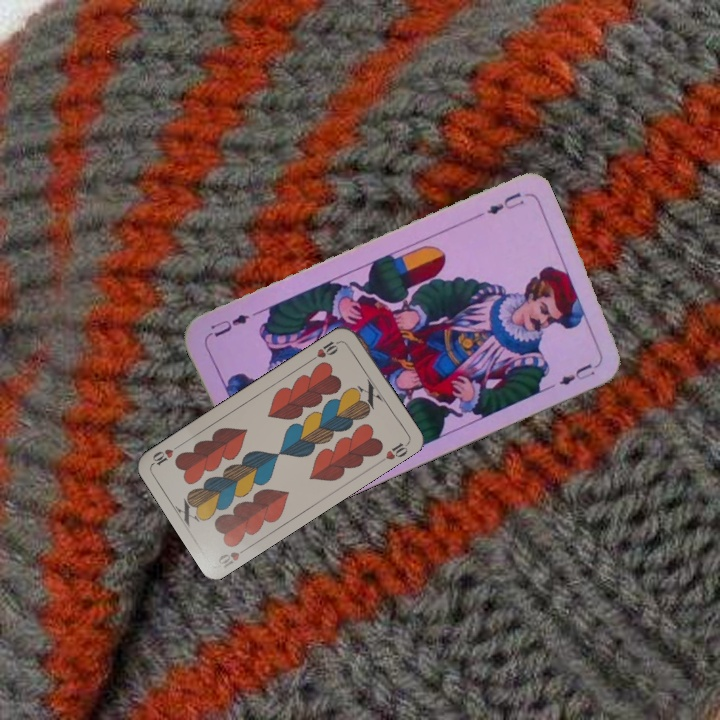EU: (471, 188, 527, 221)
H10: (214, 542, 252, 571), (307, 336, 344, 363)
